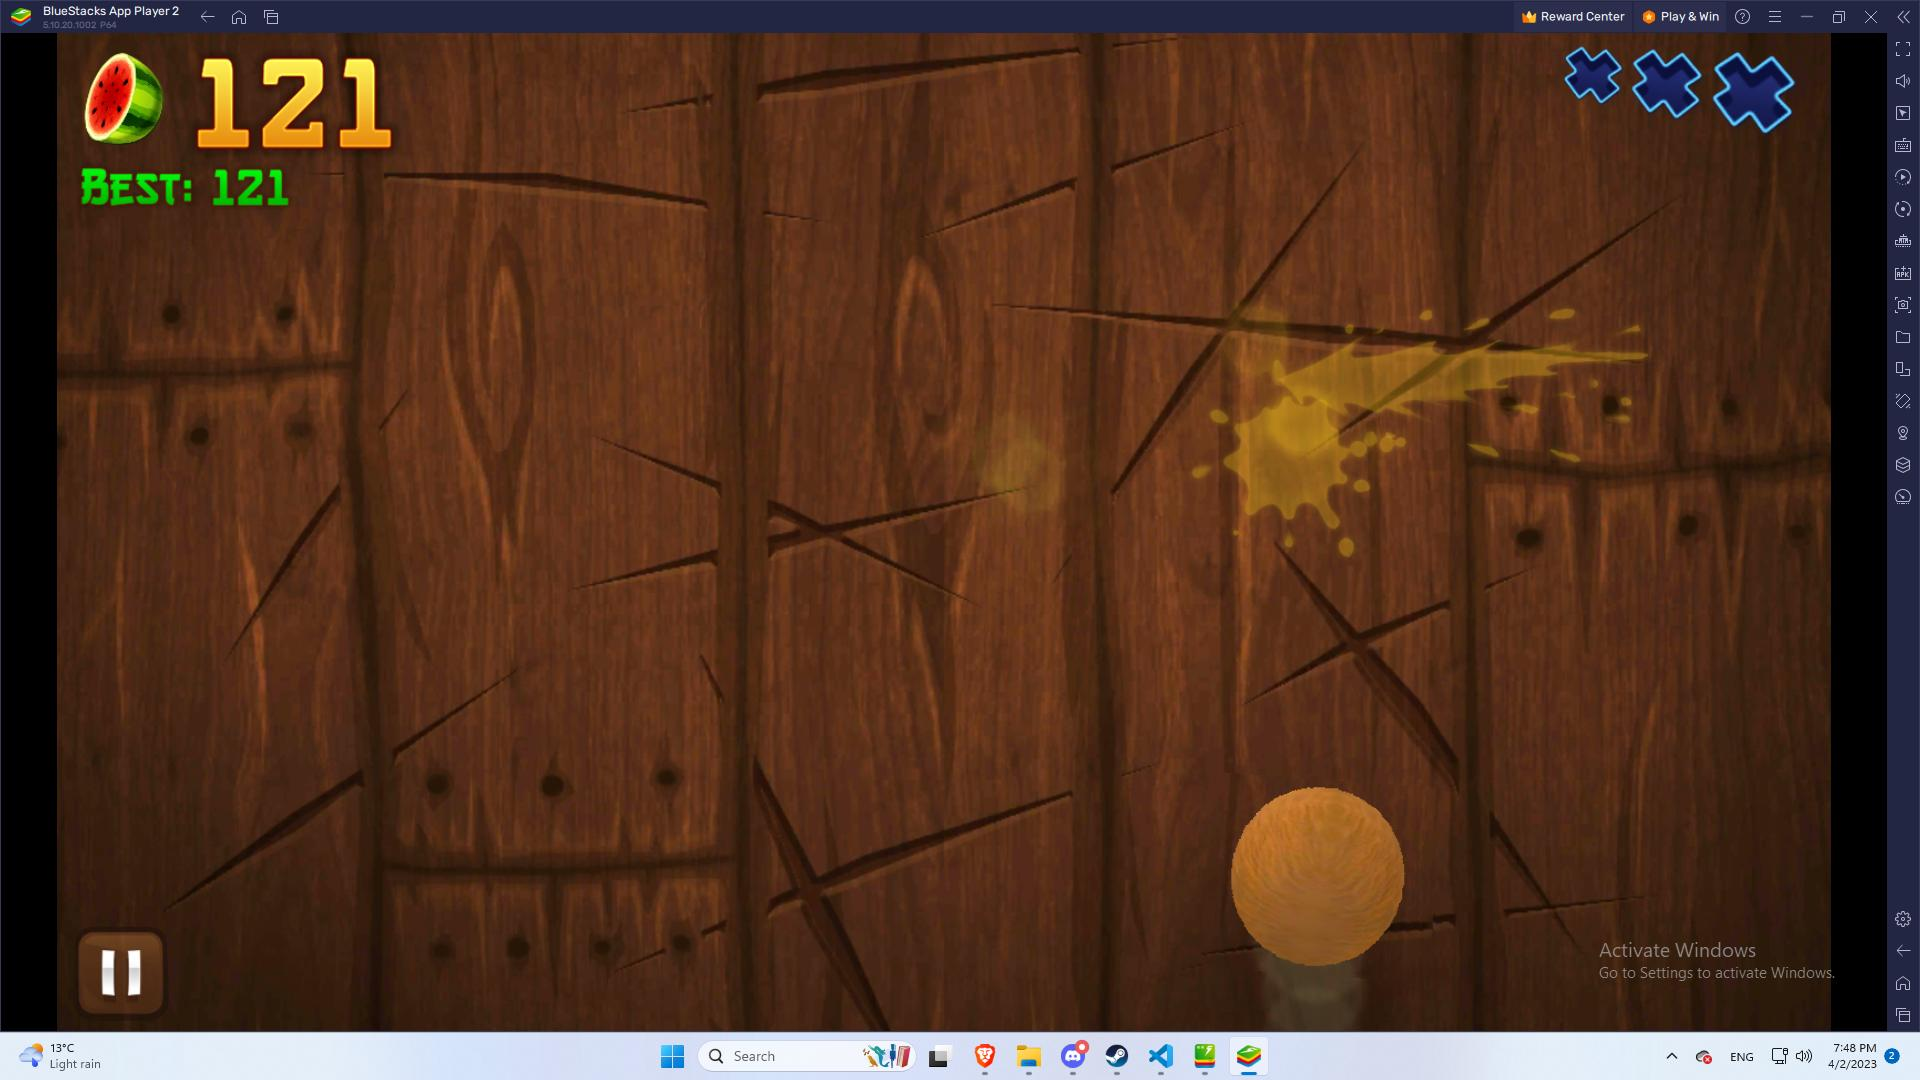fruit: (1204, 777, 1439, 980)
